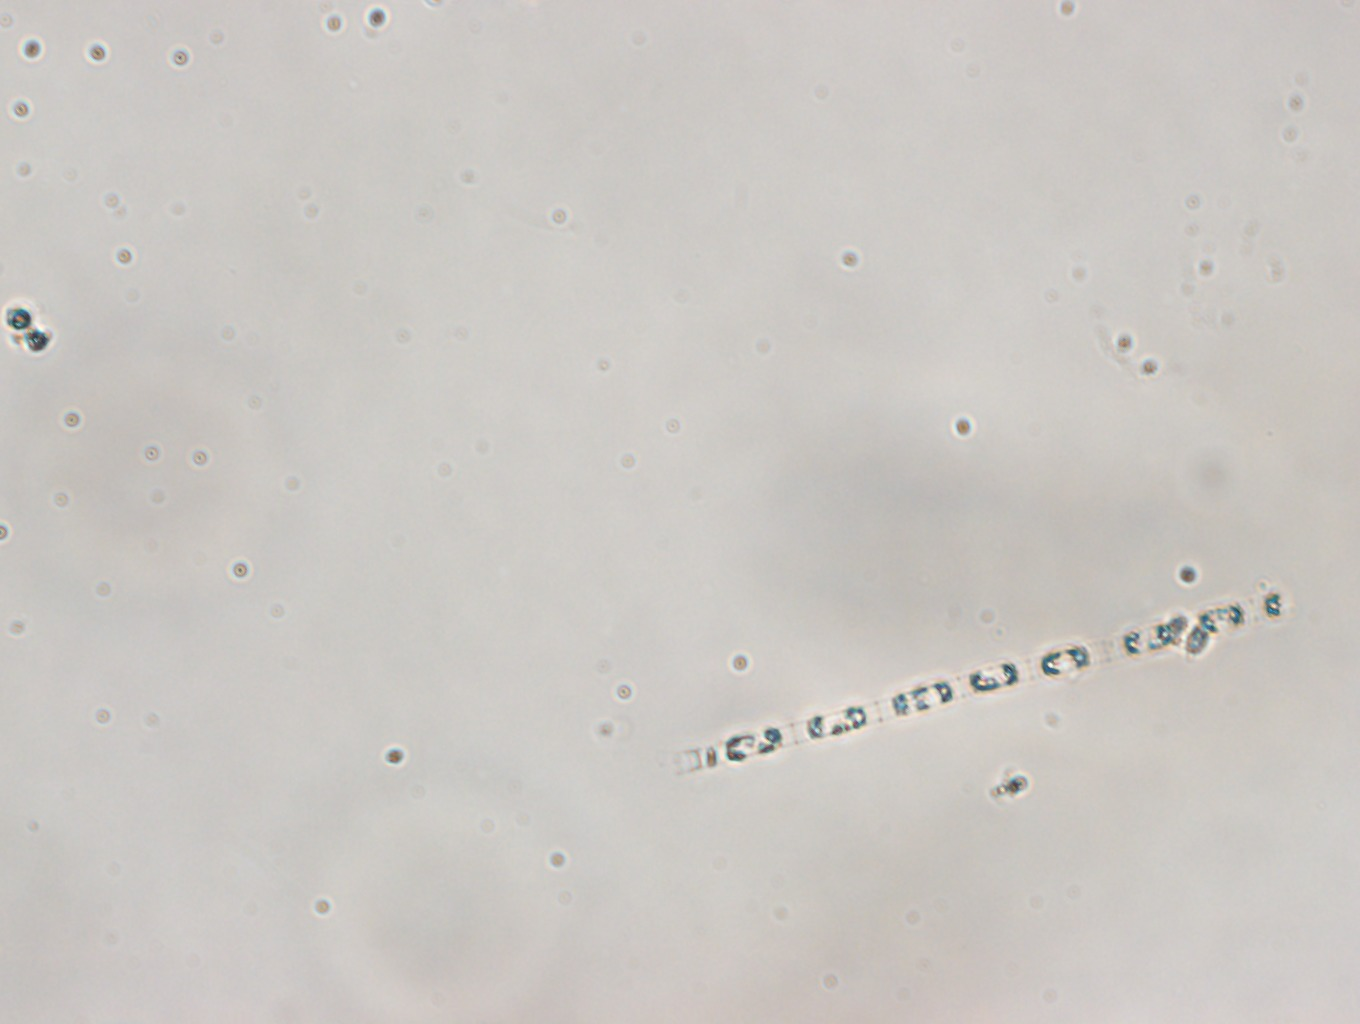skeletonema: (677, 591, 1284, 776)
